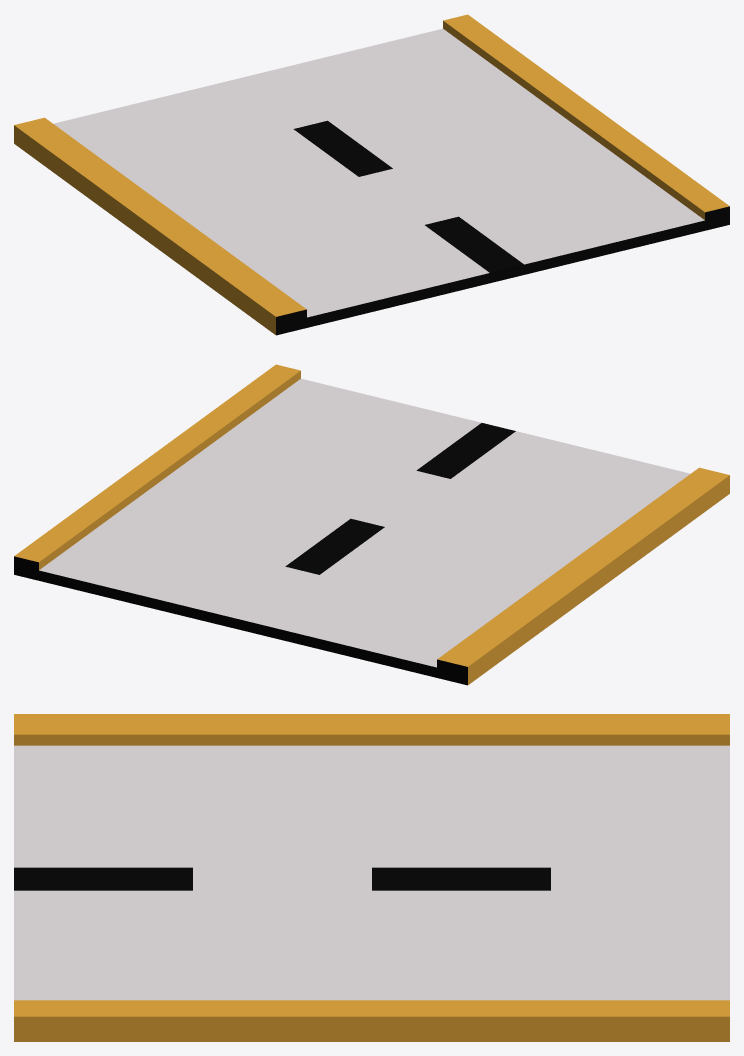
The model's file is yol.fbx.
3 views of the same model, one above another, from view 1: azimuth 30°, elevation 25°; view 2: azimuth 150°, elevation 25°; view 3: azimuth 270°, elevation 25° (orthographic). The views are drawn at different scales.
Parts seen in each view (by area): view 1: Cube; view 2: Cube; view 3: Cube.
Boxes of the visible parts, x1=… form: Cube: x1=14, y1=14, x2=729, y2=335; Cube: x1=14, y1=364, x2=729, y2=685; Cube: x1=14, y1=714, x2=729, y2=1041.
Size of the model in its own units: 619 by 24.2 by 619.
